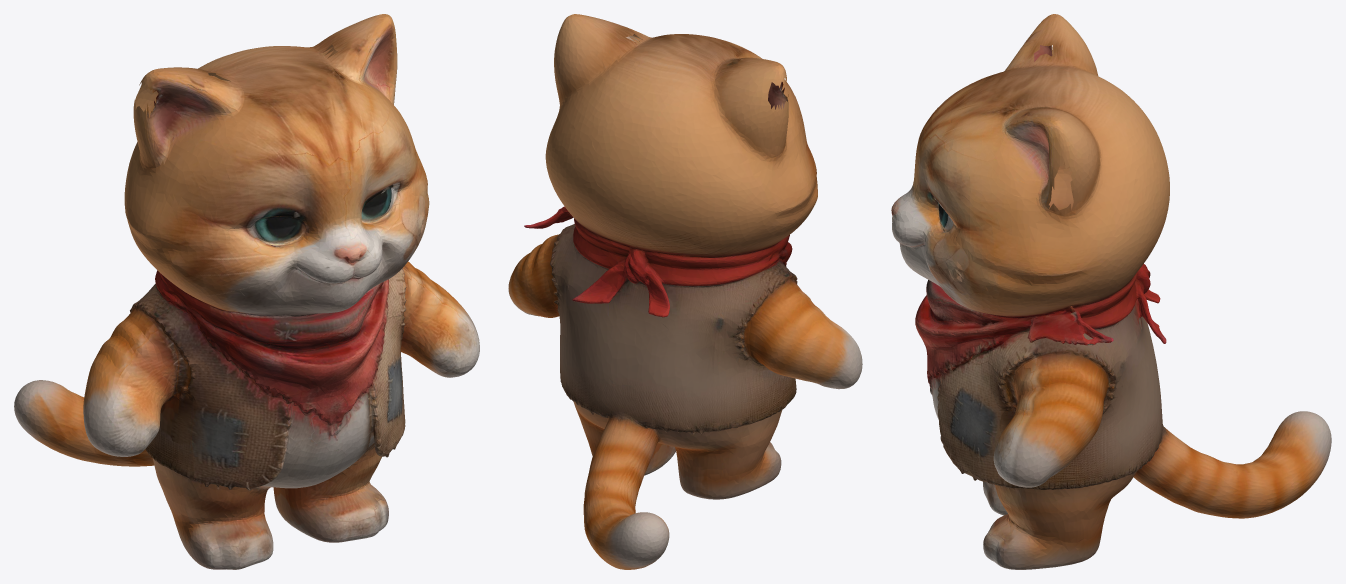
The model's file is meo-mv-in.glb.
The picture shows the model from 3 angles, left to right: view 1: azimuth 30°, elevation 25°; view 2: azimuth 150°, elevation 25°; view 3: azimuth 270°, elevation 25°; orthographic projection. The views are drawn at different scales.
Parts seen in each view (by area): view 1: meo-1234; view 2: meo-1234; view 3: meo-1234.
Part boxes in pixels (<box>): meo-1234: <box>14,14,479,569</box>; meo-1234: <box>508,14,862,569</box>; meo-1234: <box>891,14,1331,569</box>.
Size of the model in its own units: 1.64 by 1.99 by 1.71.
Materials: 1 (1 with a texture image).
